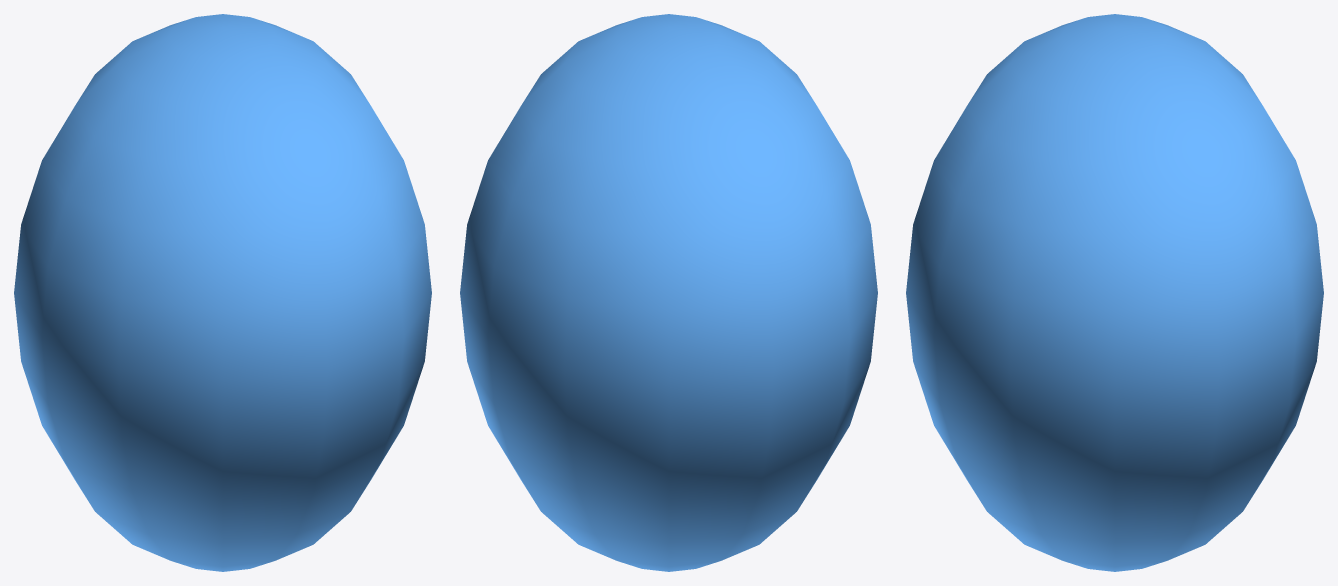
The model's file is nimboreo_stage2.obj.
3 views of the same model, side by side, from view 1: azimuth 30°, elevation 25°; view 2: azimuth 150°, elevation 25°; view 3: azimuth 270°, elevation 25° (orthographic).
Size of the model in its own units: 2 by 2.8 by 2.
